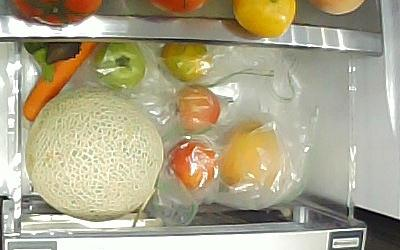carrot: (24, 42, 96, 120)
eggplant: (44, 40, 84, 64)
melon: (25, 89, 164, 222)
pear_vinyl: (220, 120, 285, 194)
prune_vinyl: (168, 139, 215, 190)
tangerine_vinyl: (161, 44, 213, 81)
tomato_vinyl: (93, 42, 145, 89), (176, 86, 219, 134)
zucchini: (23, 41, 55, 83)
